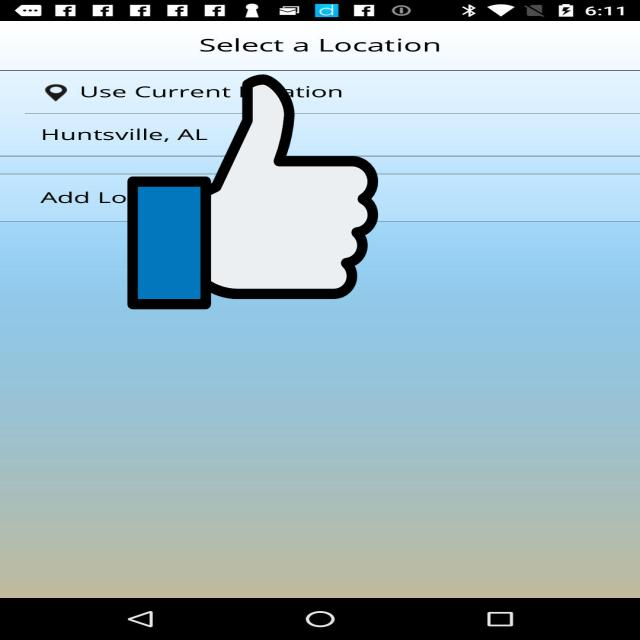privacy zuckering: (127, 70, 378, 314)
